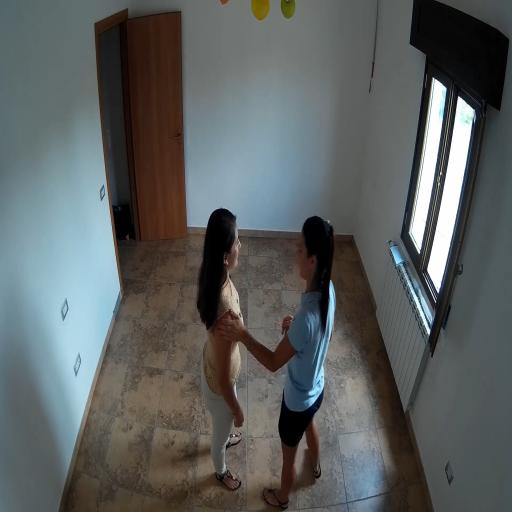nao-violencia: (185, 193, 341, 512)
